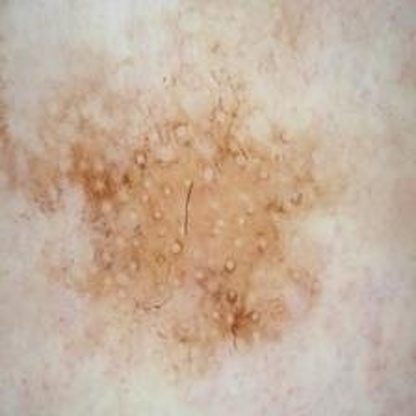malignant: (86, 106, 301, 319)
